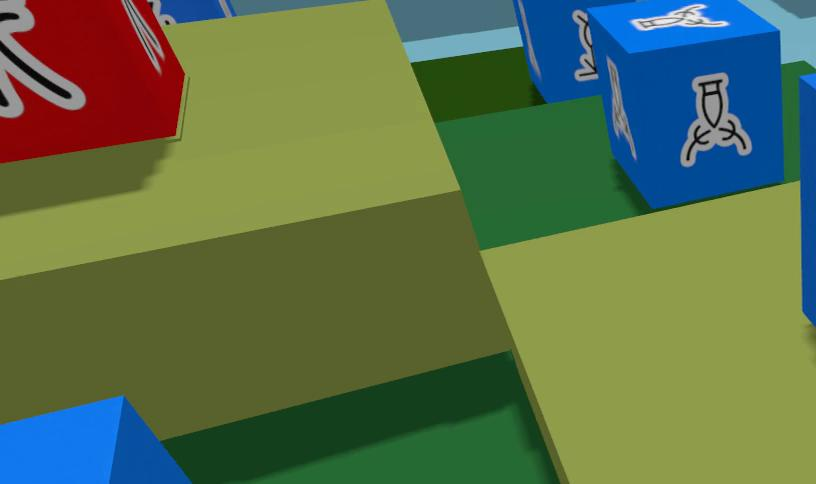KFS_FAKE: (0, 0, 185, 163), (0, 0, 85, 117)
KFS_REAL: (588, 0, 783, 208), (0, 397, 191, 483), (681, 73, 752, 167), (800, 76, 815, 326), (606, 58, 638, 160), (630, 4, 728, 30), (571, 10, 598, 80)
